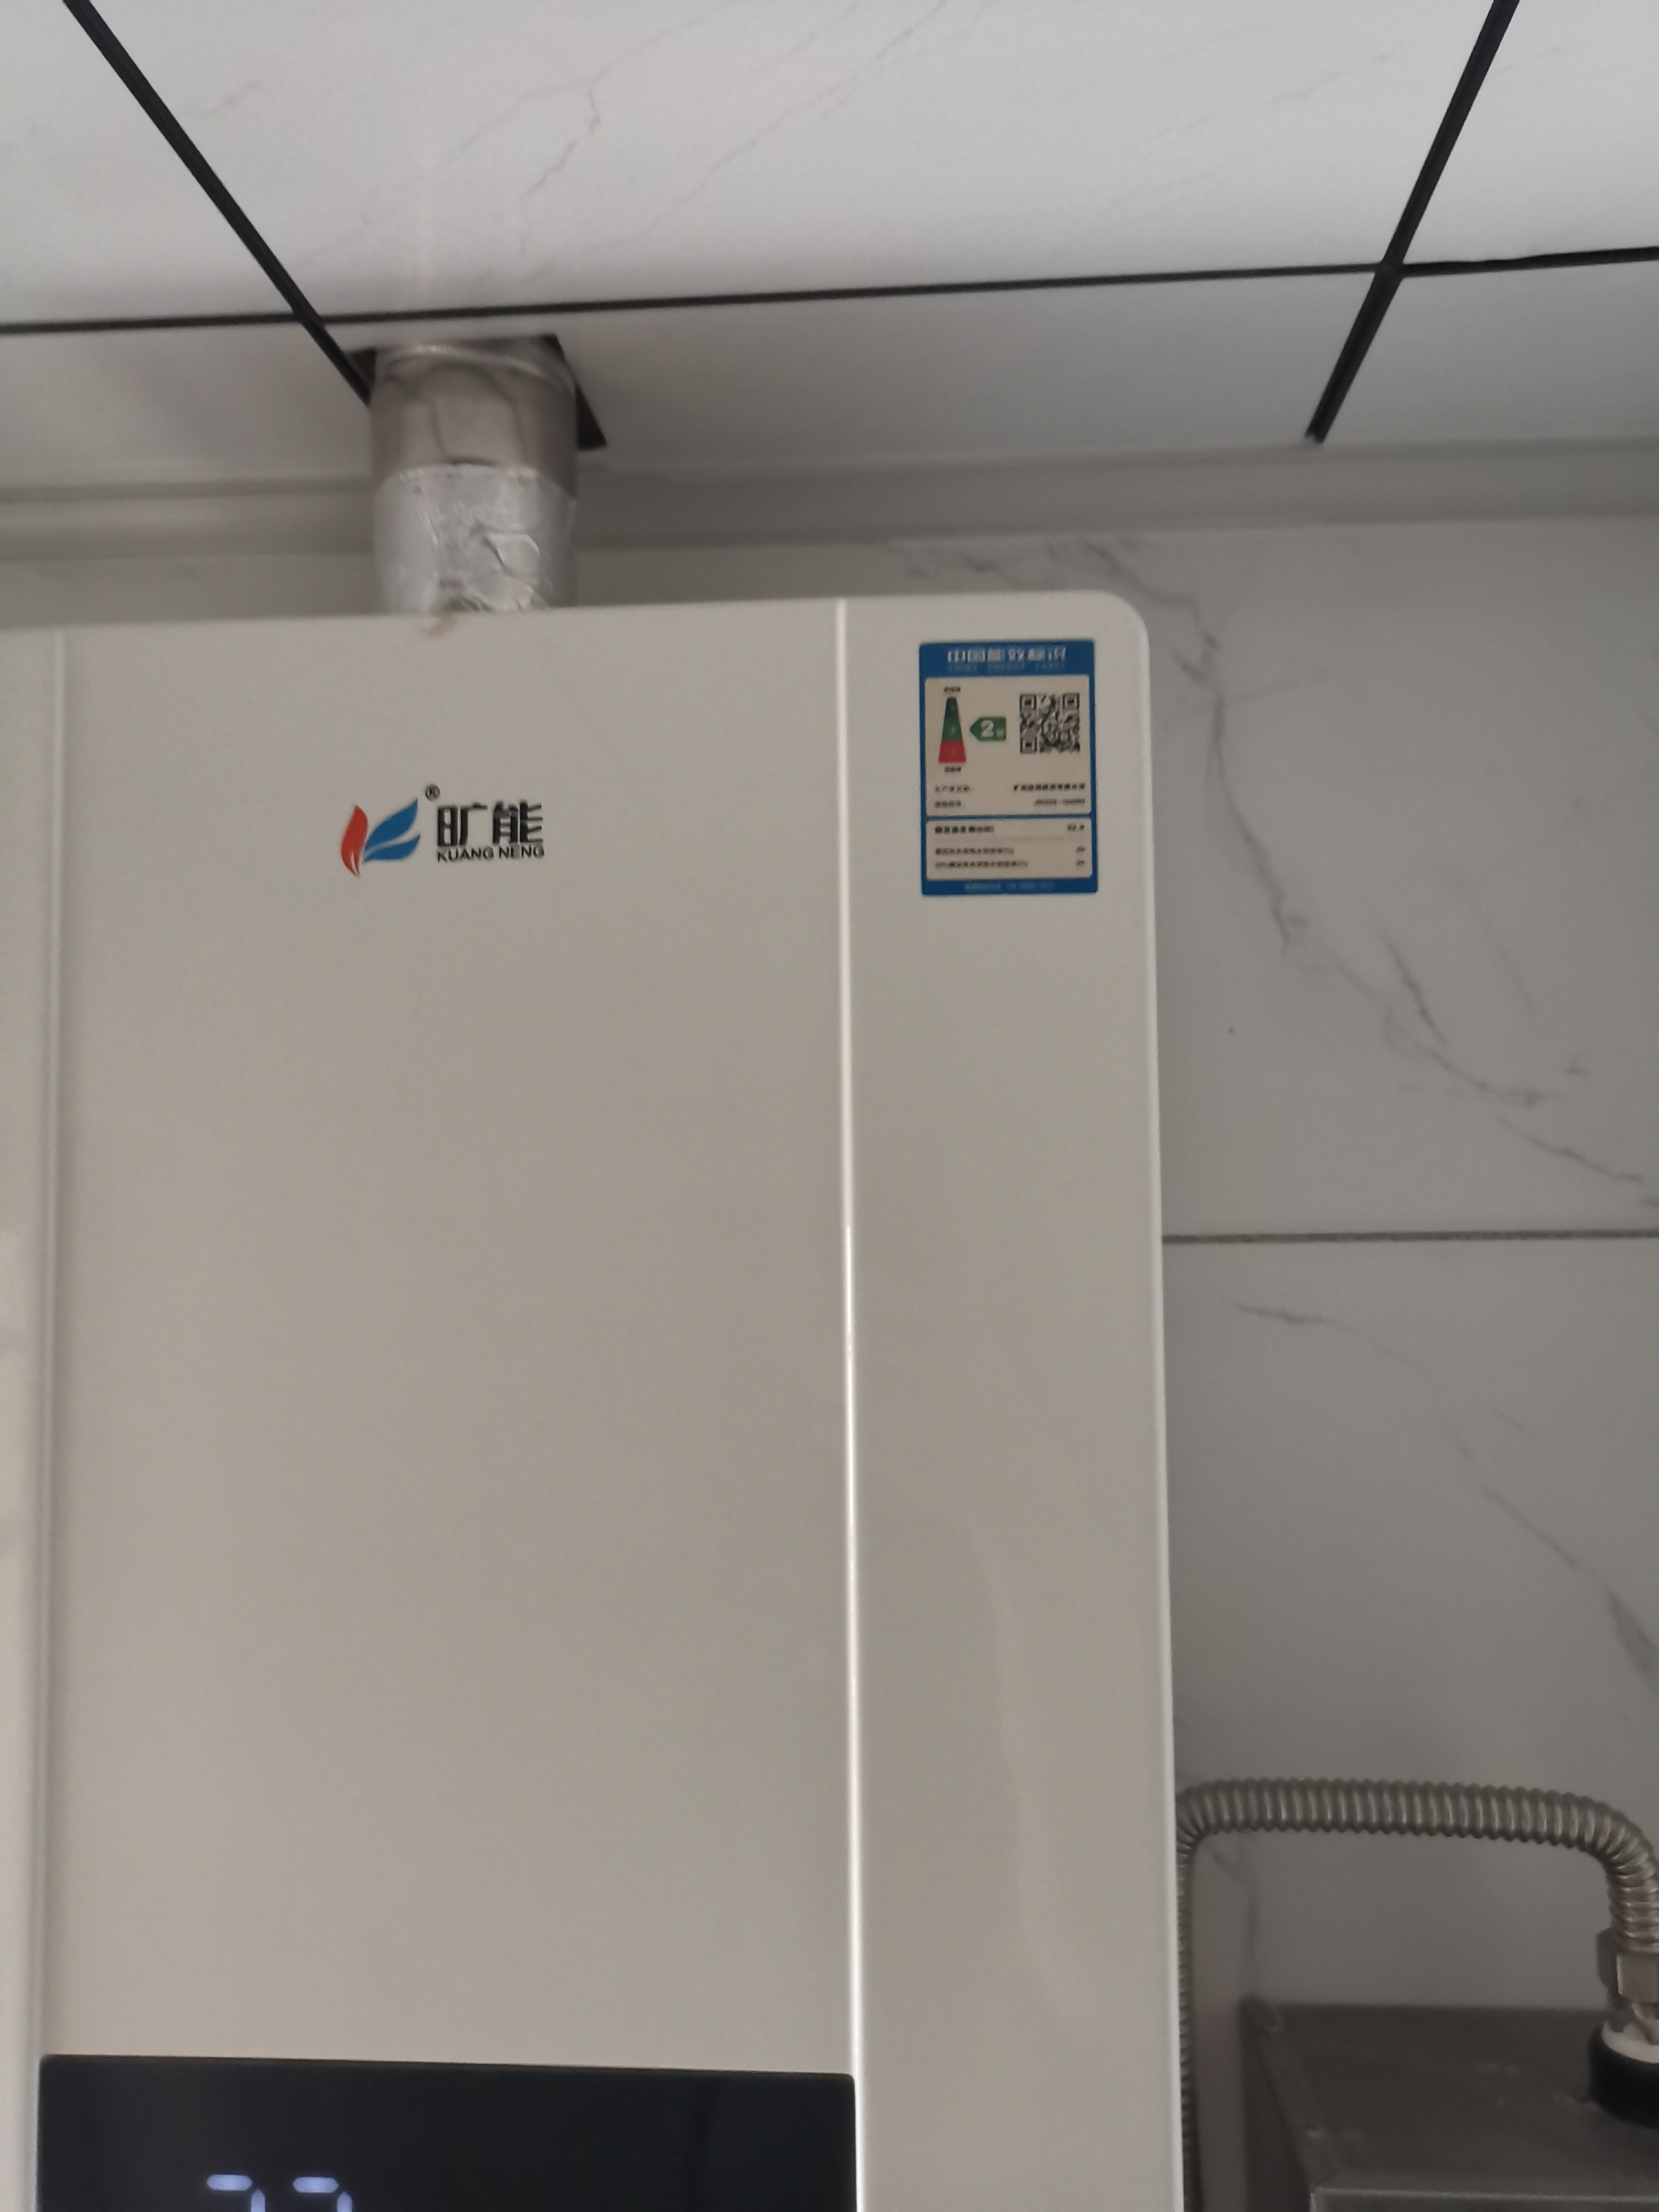loudou: (321, 773, 566, 892)
